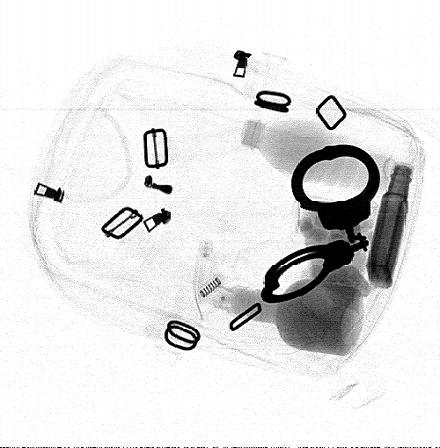HandCuffs: (261, 144, 380, 304)
